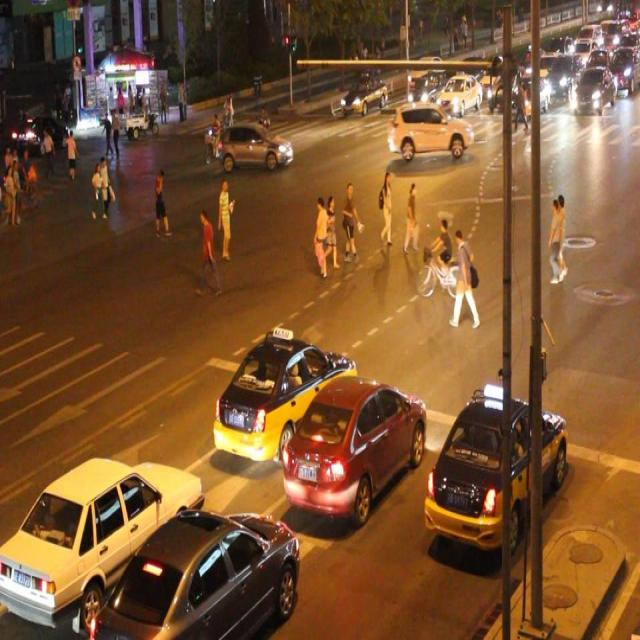car: (1, 450, 200, 630), (96, 505, 298, 640), (422, 394, 568, 551), (283, 378, 422, 517), (215, 334, 352, 458), (388, 106, 473, 158), (216, 121, 292, 172), (437, 72, 480, 114), (340, 74, 385, 114), (406, 70, 443, 110)
